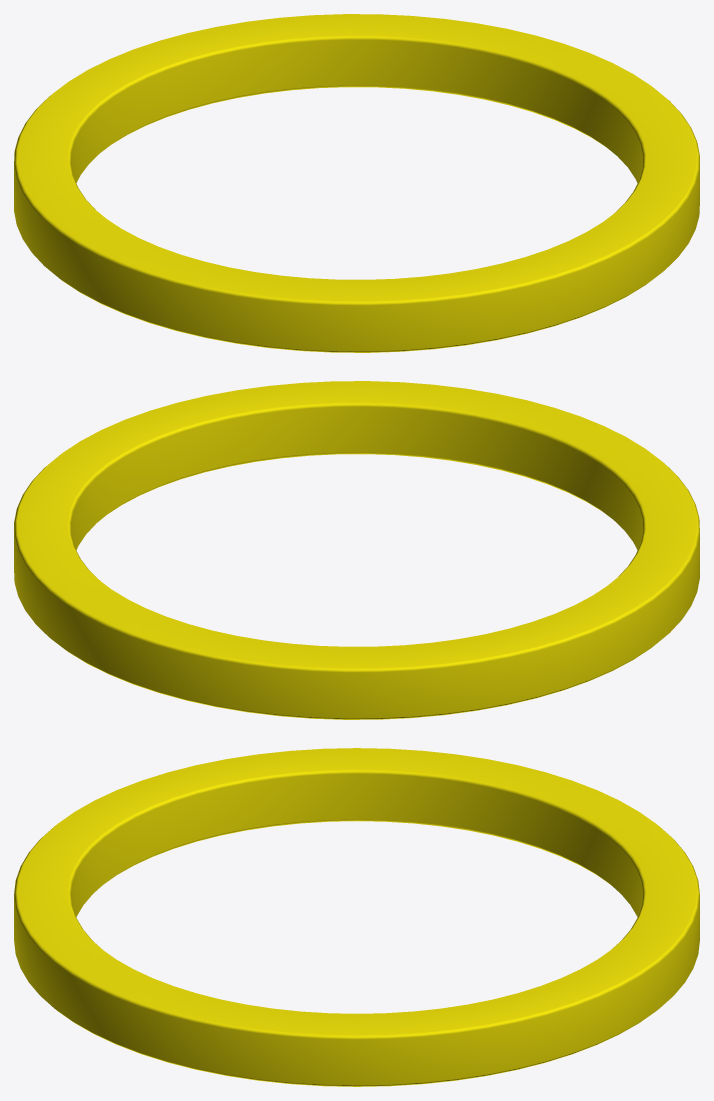
3 renders of one model, top to bottom at view 1: azimuth 30°, elevation 25°; view 2: azimuth 150°, elevation 25°; view 3: azimuth 270°, elevation 25°, orthographic.
Visible parts, largest first — view 1: seal_body; view 2: seal_body; view 3: seal_body.
Boxes of the visible parts, x1,y1,x2,y2 form: seal_body: (14,14,699,352); seal_body: (14,381,699,719); seal_body: (14,748,699,1086).
Bounding box in the file's own units: 0.0762 × 0.00635 × 0.0762.
